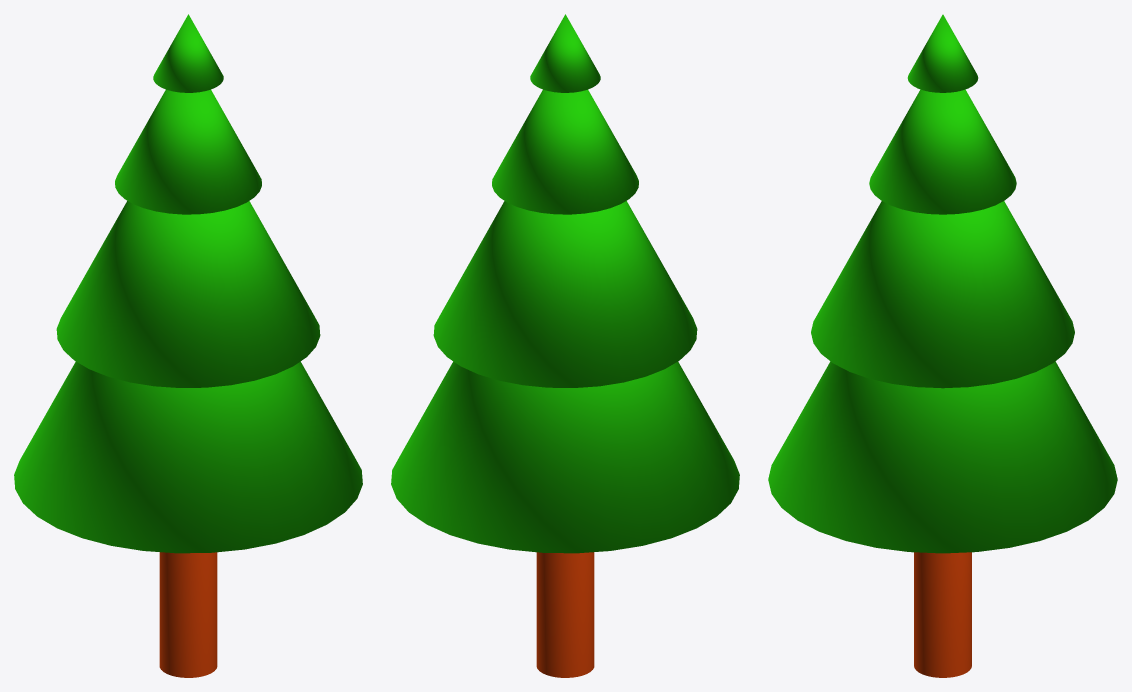
The model's file is simple tree.fbx.
3 renders of one model, left to right at view 1: azimuth 30°, elevation 25°; view 2: azimuth 150°, elevation 25°; view 3: azimuth 270°, elevation 25°, orthographic.
Parts seen in each view (by area): view 1: Cone, Cone.001, Cone.002, Cylinder, Cone.003; view 2: Cone, Cone.001, Cone.002, Cylinder, Cone.003; view 3: Cone, Cone.001, Cone.002, Cylinder, Cone.003.
Boxes of the visible parts, box(x1,y1,x2,y2) form: Cone: box(14, 361, 362, 553); Cone.001: box(56, 201, 320, 387); Cone.002: box(115, 89, 261, 214); Cylinder: box(159, 552, 217, 677); Cone.003: box(153, 14, 223, 92); Cone: box(391, 361, 739, 553); Cone.001: box(433, 201, 697, 387); Cone.002: box(492, 89, 638, 214); Cylinder: box(536, 552, 594, 677); Cone.003: box(530, 14, 600, 92); Cone: box(768, 361, 1117, 553); Cone.001: box(811, 201, 1074, 388); Cone.002: box(869, 89, 1016, 214); Cylinder: box(914, 552, 971, 677); Cone.003: box(907, 14, 978, 92).
Size of the model in its own units: 264 by 543 by 264.
